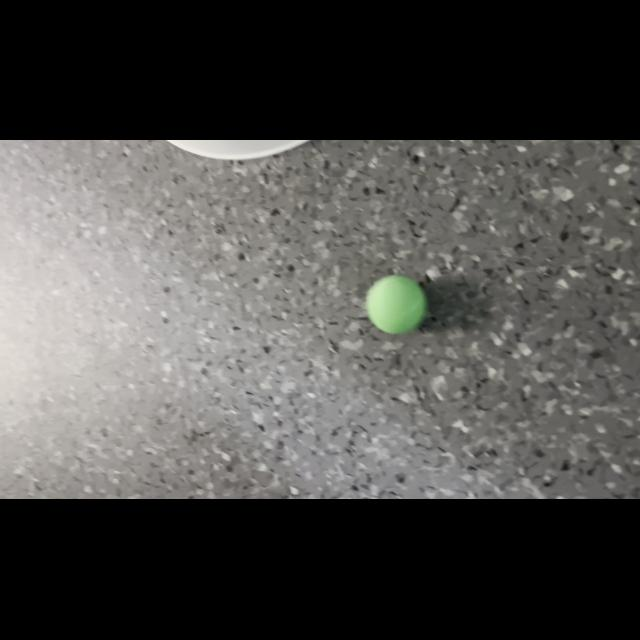objects: (361, 270, 432, 338)
